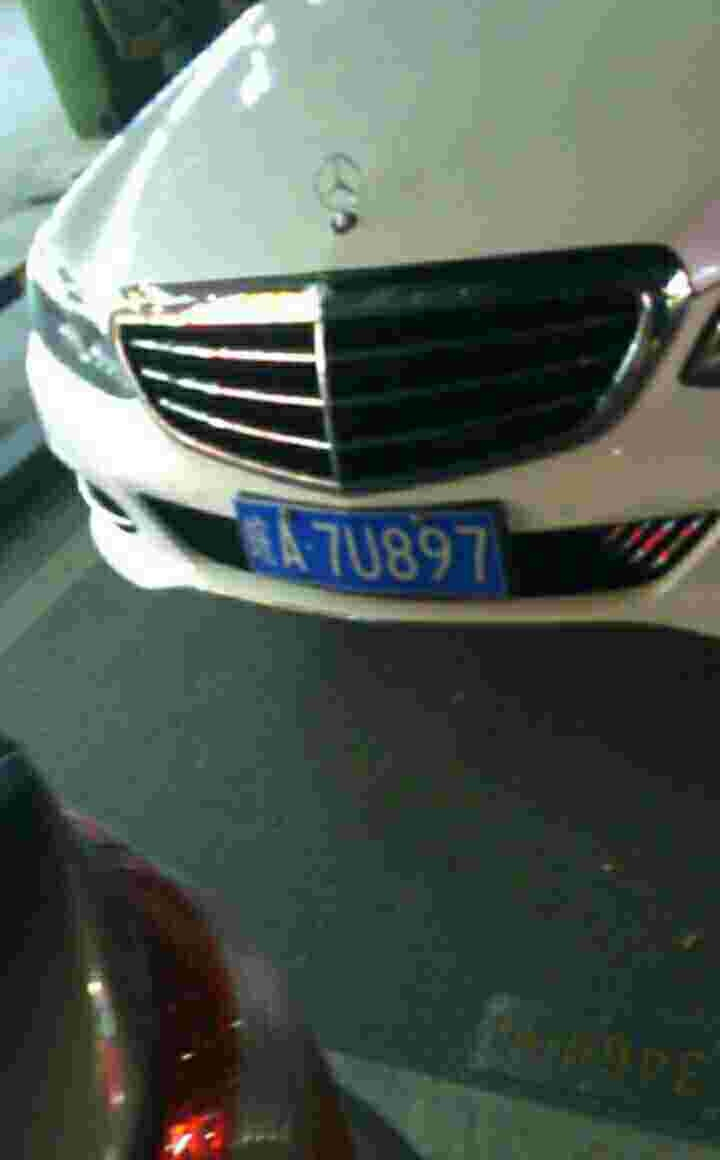license_plate: (229, 503, 517, 603)
